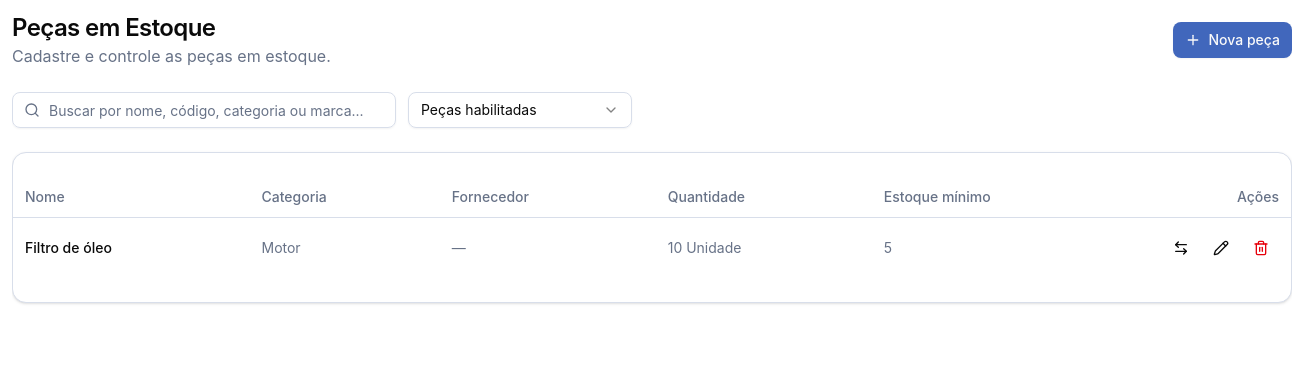
Test case: PartsPage › switches to the inactive filter and shows Reativar instead of Excluir
The image size is (1304, 383).
Expected: the text "Filtro de óleo" is shown, [13,217,250,278]
Click the dropdown: x=520, y=110 [408,92,632,128]
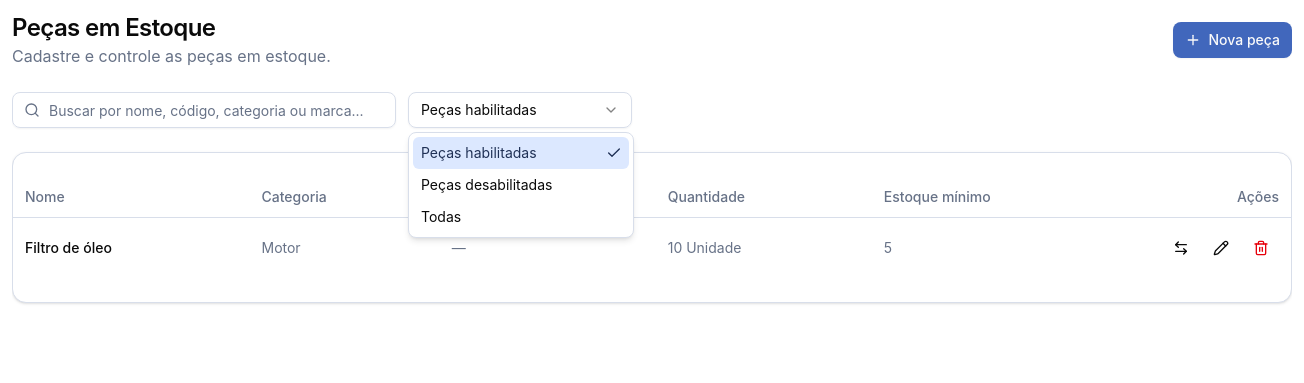
Click the option "Peças desabilitadas": x=487, y=184 [421,176,552,193]
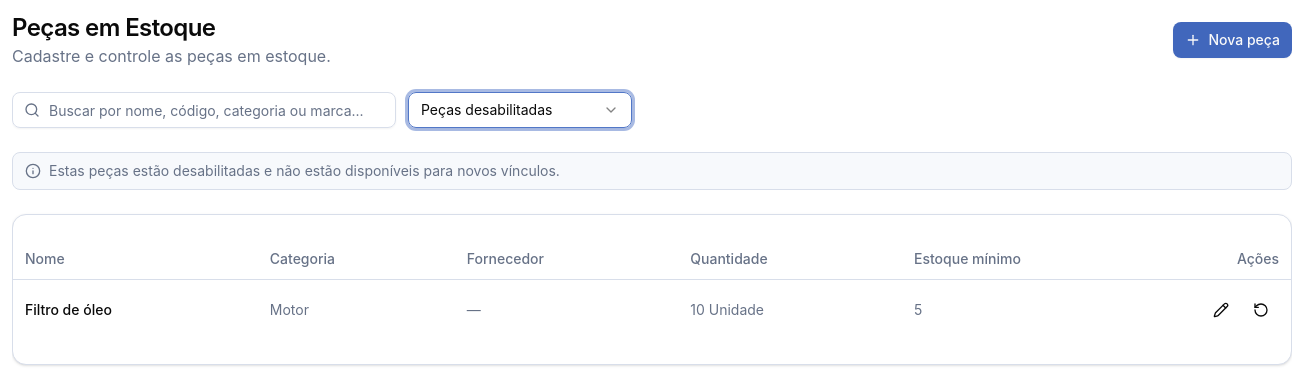
Now the button named "Reativar peça" is shown, box [1243,292,1279,328]
